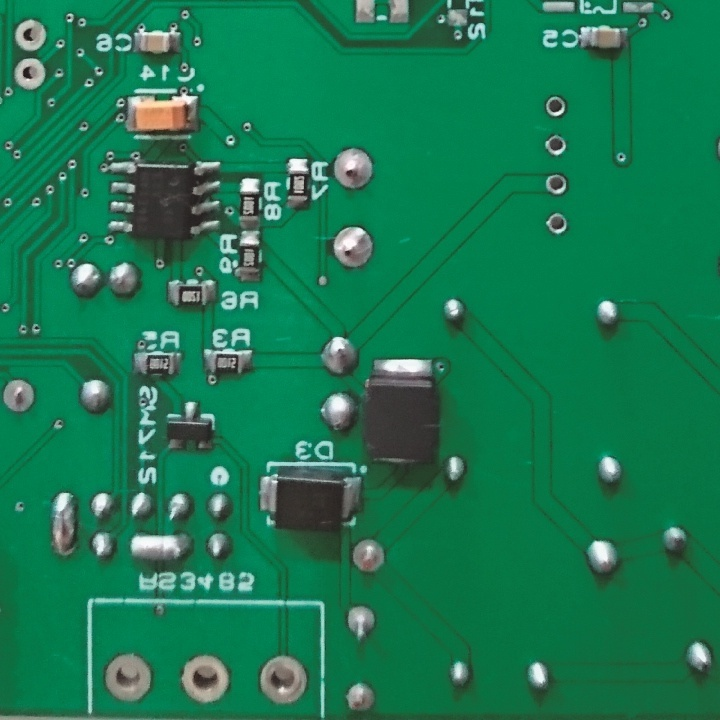F: (178, 651, 230, 706), (256, 651, 307, 707), (103, 652, 157, 702), (330, 146, 377, 194), (331, 224, 376, 272), (10, 17, 53, 54), (344, 600, 379, 643), (10, 57, 50, 93), (1, 379, 38, 416), (350, 538, 389, 573), (341, 681, 379, 711), (542, 170, 570, 198), (543, 92, 568, 119), (546, 210, 570, 238), (544, 133, 569, 159)
P: (127, 531, 198, 565), (47, 489, 79, 558)
